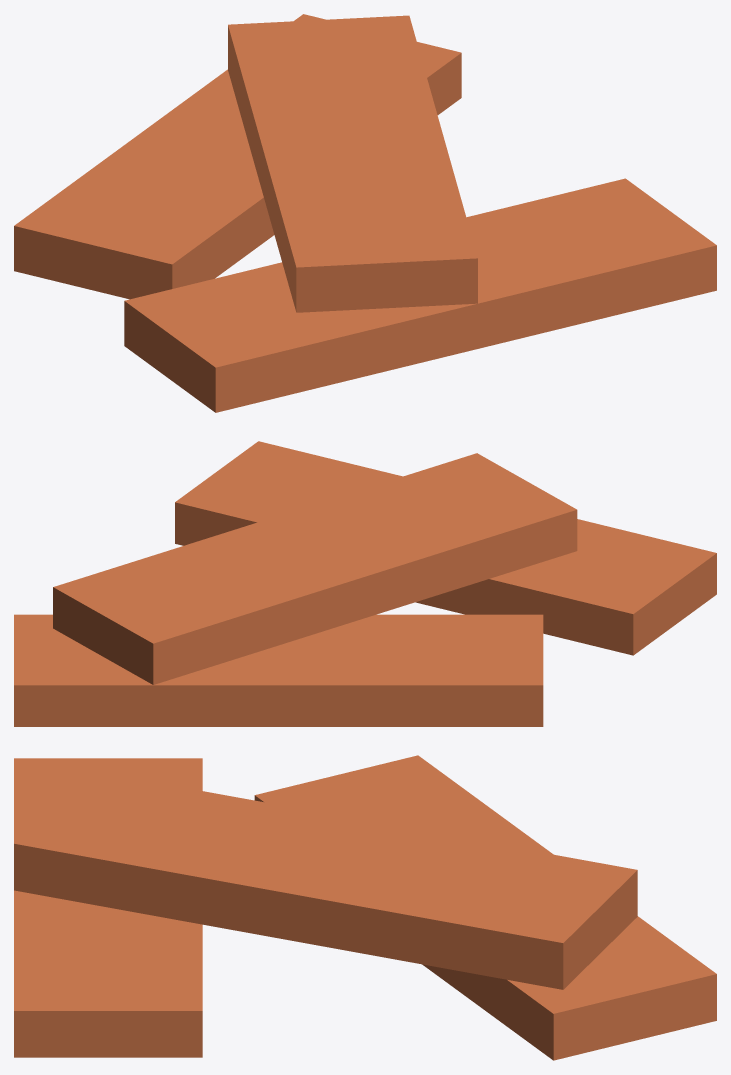
The model's file is debrisWood.fbx.
The picture shows the model from 3 angles, top to bottom: view 1: azimuth 30°, elevation 25°; view 2: azimuth 150°, elevation 25°; view 3: azimuth 270°, elevation 25°; orthographic projection. The views are drawn at different scales.
Visible parts, largest first — view 1: debrisWood; view 2: debrisWood; view 3: debrisWood.
Boxes of the visible parts, <box> form: debrisWood: <box>14,14,716,412</box>; debrisWood: <box>14,441,716,726</box>; debrisWood: <box>14,755,716,1060</box>.
Bounding box in the file's own units: 4.67 × 0.7872 × 5.36.
